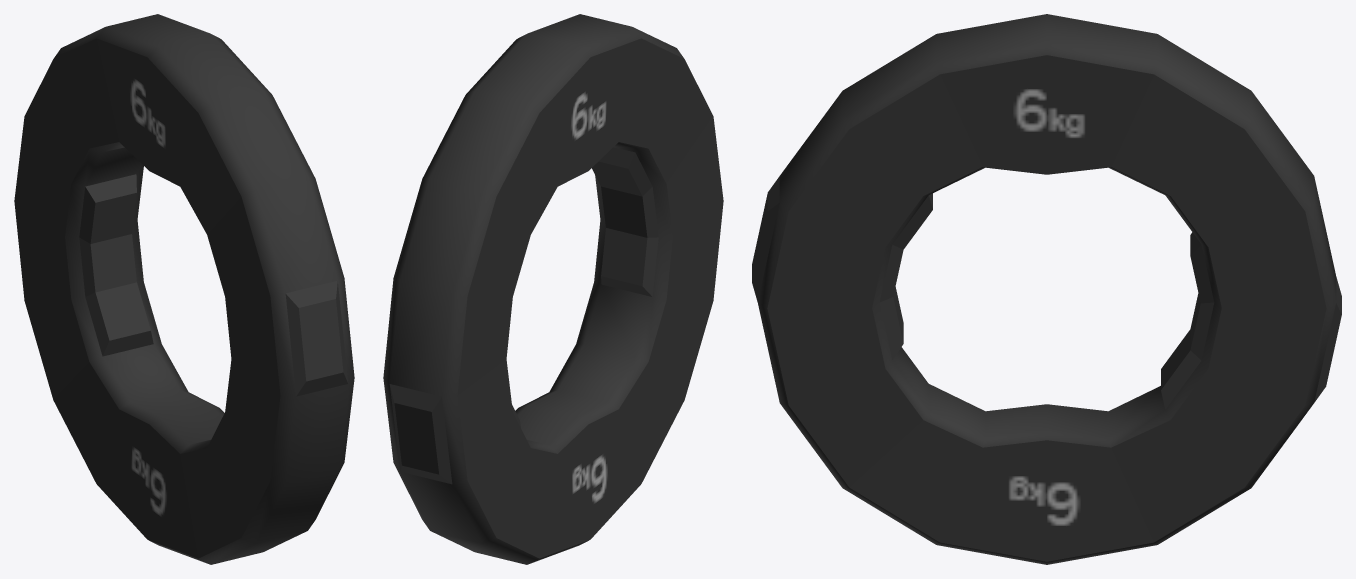
The model's file is weight-c.glb.
The picture shows the model from 3 angles, left to right: view 1: azimuth 30°, elevation 25°; view 2: azimuth 150°, elevation 25°; view 3: azimuth 270°, elevation 25°; orthographic projection. The views are drawn at different scales.
Parts seen in each view (by area): view 1: Weight_C; view 2: Weight_C; view 3: Weight_C.
Part boxes in pixels (x1=…): Weight_C: x1=14, y1=14, x2=354, y2=564; Weight_C: x1=383, y1=14, x2=723, y2=564; Weight_C: x1=752, y1=14, x2=1341, y2=564.
Bounding box in the file's own units: 3.92 × 25.2 × 25.7.
1 material, 1 textured.
